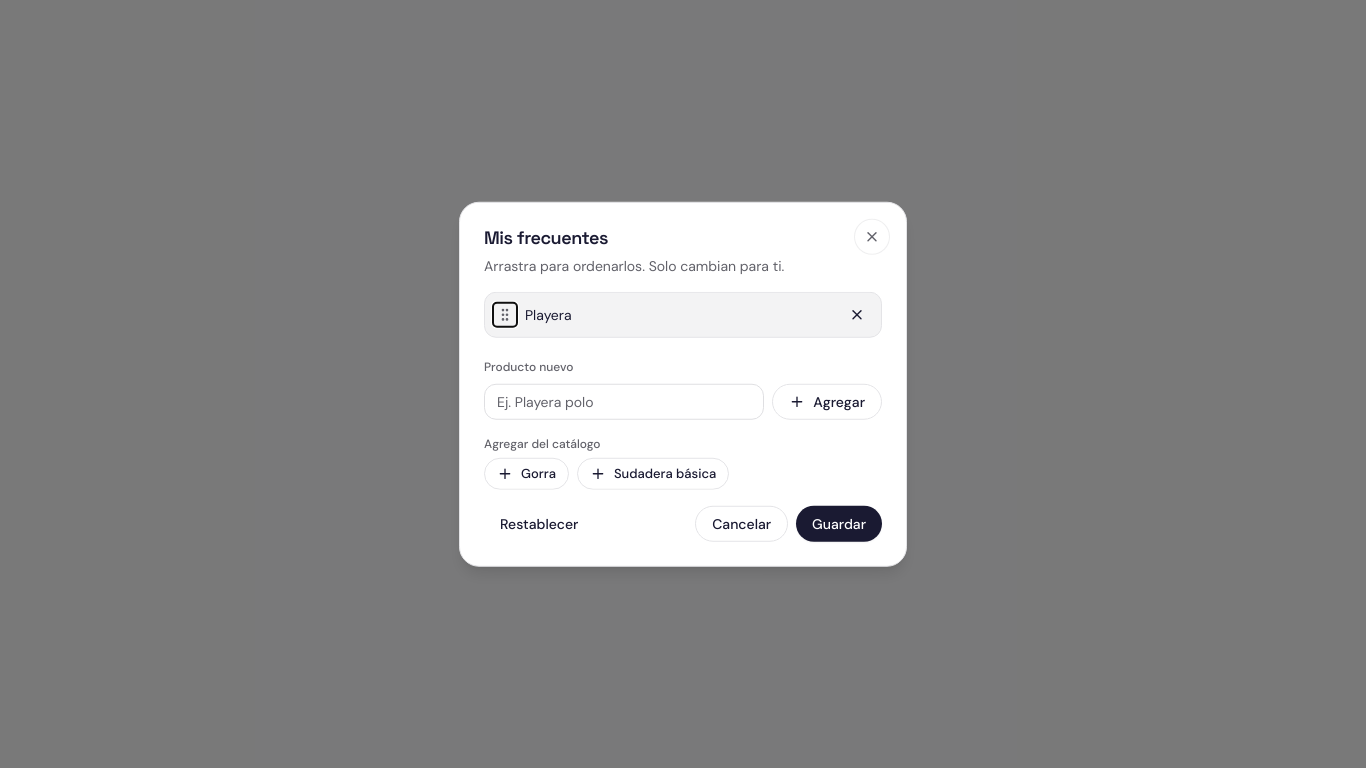
Scenario: CustomizeFrequentsDialog › si ya está en mis frecuentes avisa y no duplica
Type "playera" into the field labelled "Producto nuevo" at {"x": 624, "y": 401}, box [484,383,764,419]
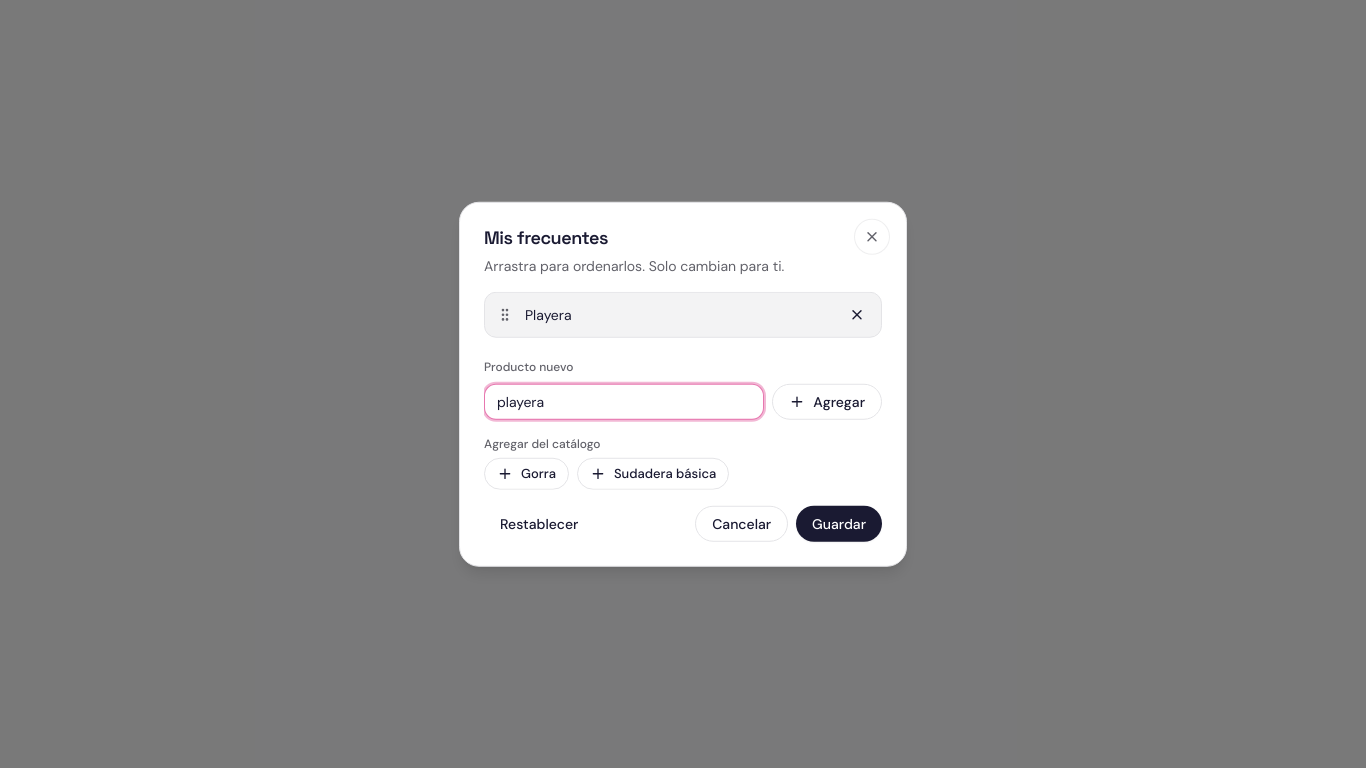
Click the button "Agregar" at {"x": 827, "y": 401}, box [772,383,882,419]
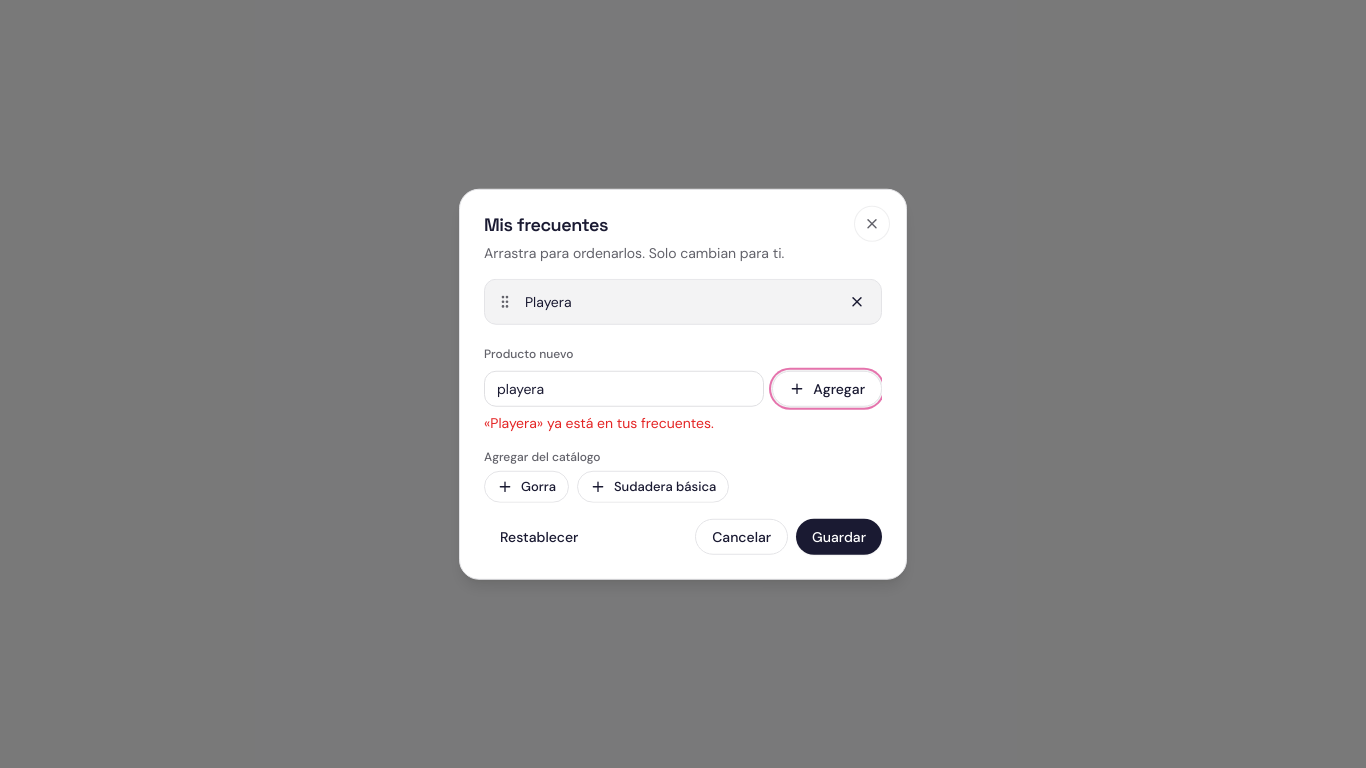
Expected: the number of buttons named "Quitar Playera" is 1, [841,285,873,317]
Expected: the message reads "«Playera» ya está en tus frecuentes.", [484,413,714,431]
